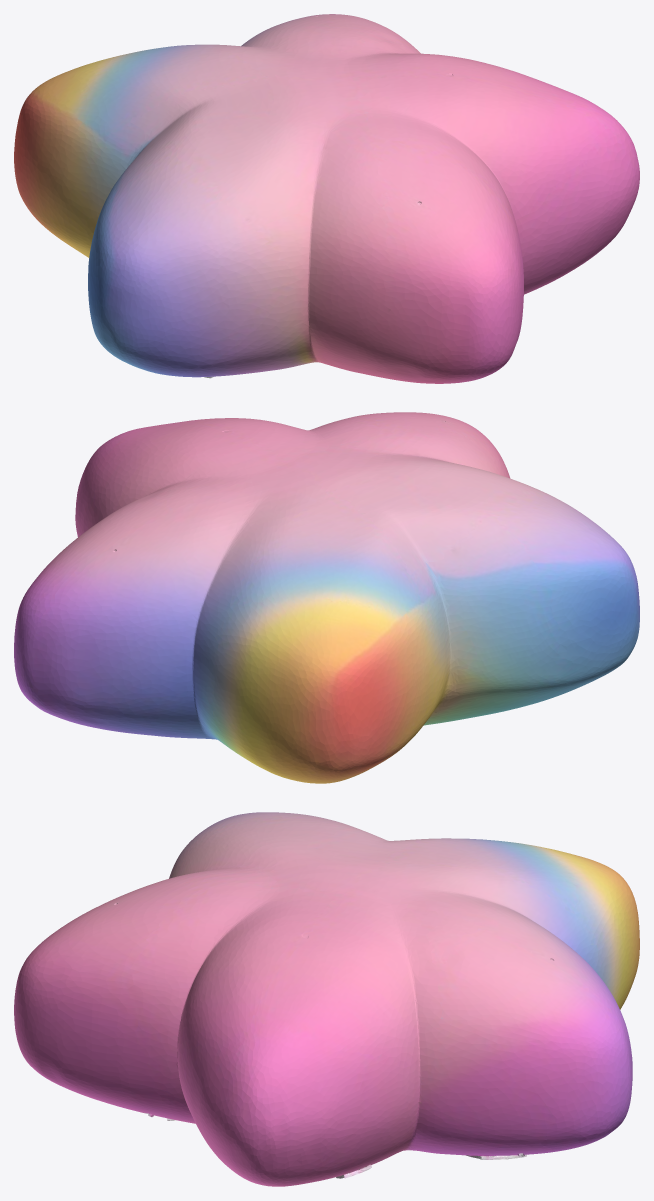
Rendered from star_1.glb.
3 renders of one model, top to bottom at view 1: azimuth 30°, elevation 25°; view 2: azimuth 150°, elevation 25°; view 3: azimuth 270°, elevation 25°, orthographic.
Visible parts, largest first — view 1: tripo_node_66454dd1-68d7-4d1c-85f6-198da378a18a; view 2: tripo_node_66454dd1-68d7-4d1c-85f6-198da378a18a; view 3: tripo_node_66454dd1-68d7-4d1c-85f6-198da378a18a.
Part boxes in pixels (x1,y1,x2,y2): tripo_node_66454dd1-68d7-4d1c-85f6-198da378a18a: [14, 14, 639, 383]; tripo_node_66454dd1-68d7-4d1c-85f6-198da378a18a: [14, 412, 639, 783]; tripo_node_66454dd1-68d7-4d1c-85f6-198da378a18a: [14, 812, 639, 1186].
Bounding box in the file's own units: 0.968 × 0.3935 × 0.9582.
Materials: 1 (1 with a texture image).
